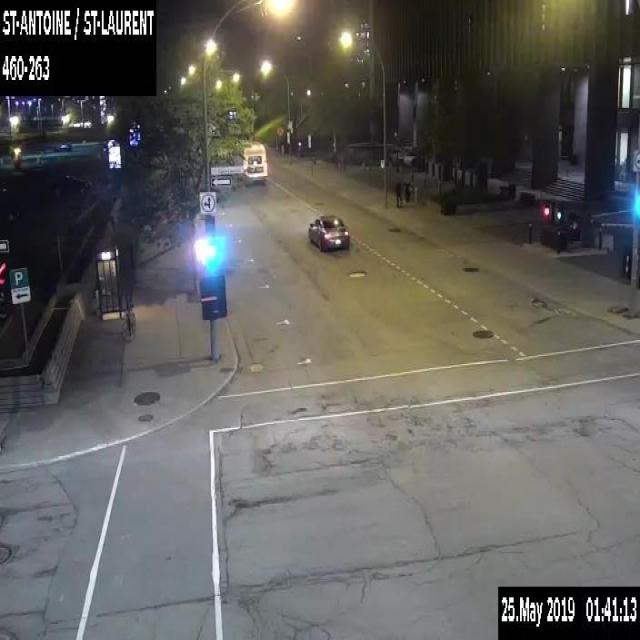bus: (232, 139, 267, 180)
construction: (275, 124, 284, 136)
pedestrian: (402, 176, 414, 206), (393, 176, 401, 207)
vehicle: (308, 213, 350, 250), (52, 173, 91, 196)
